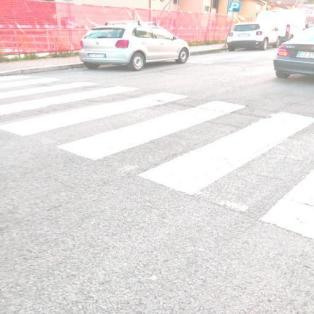Paso de Cebra: (52, 98, 314, 200)
